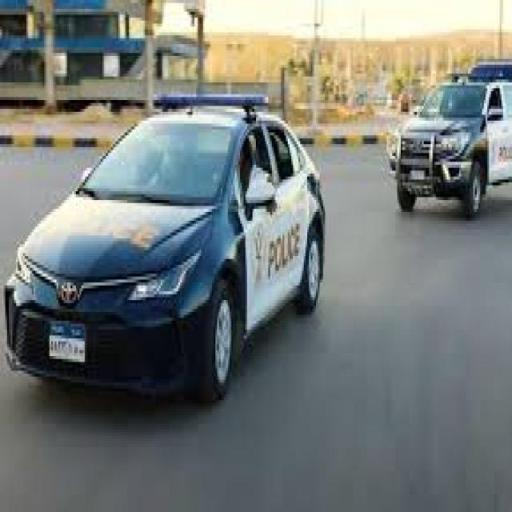Ambulance: (0, 88, 331, 414), (386, 56, 512, 218)
